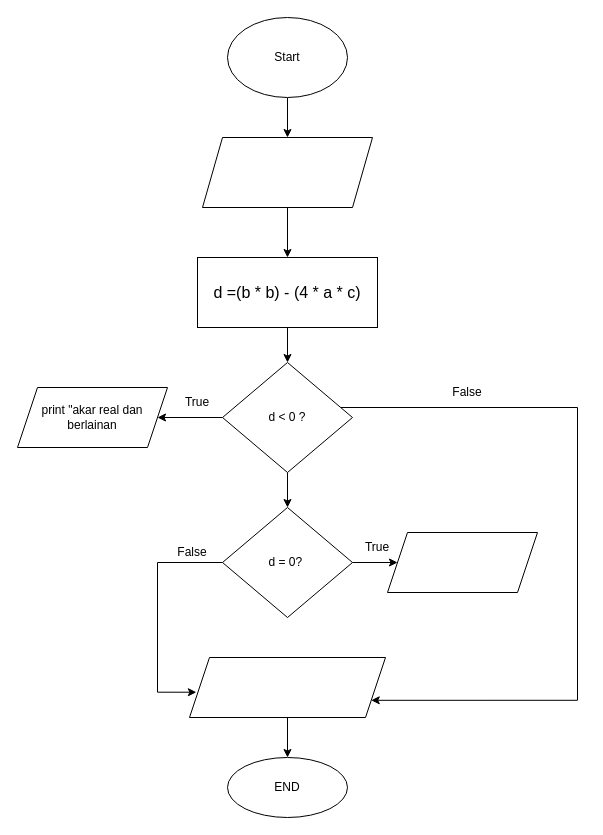
Some shapes in this 603 by 835 pixel diagram are drawn without their labels. Each missing label, with the box of its shape:
input a,b,c: (202, 136, 372, 208)
print "akar imajiner/ tidak real": (188, 656, 386, 718)
print "akar real dan kembar": (386, 532, 538, 592)
